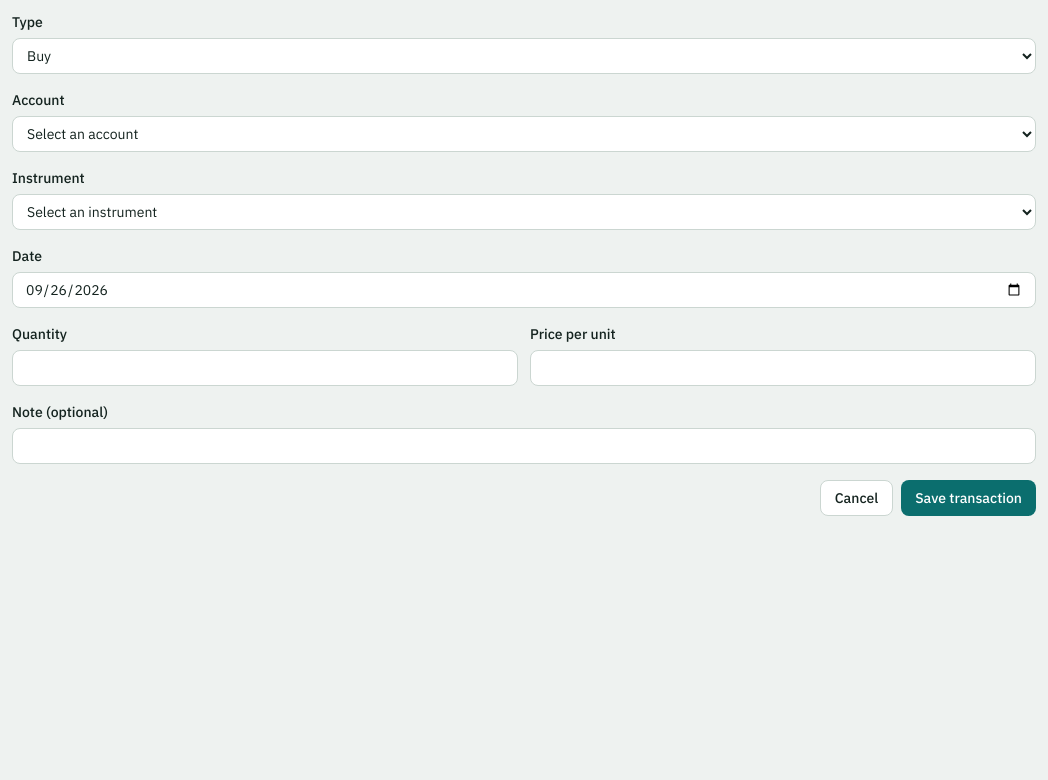
Test case: TransactionForm › rejects a negative quantity
Select "Main" in the dropdown labelled "Account": (524, 134) [12, 116, 1036, 152]
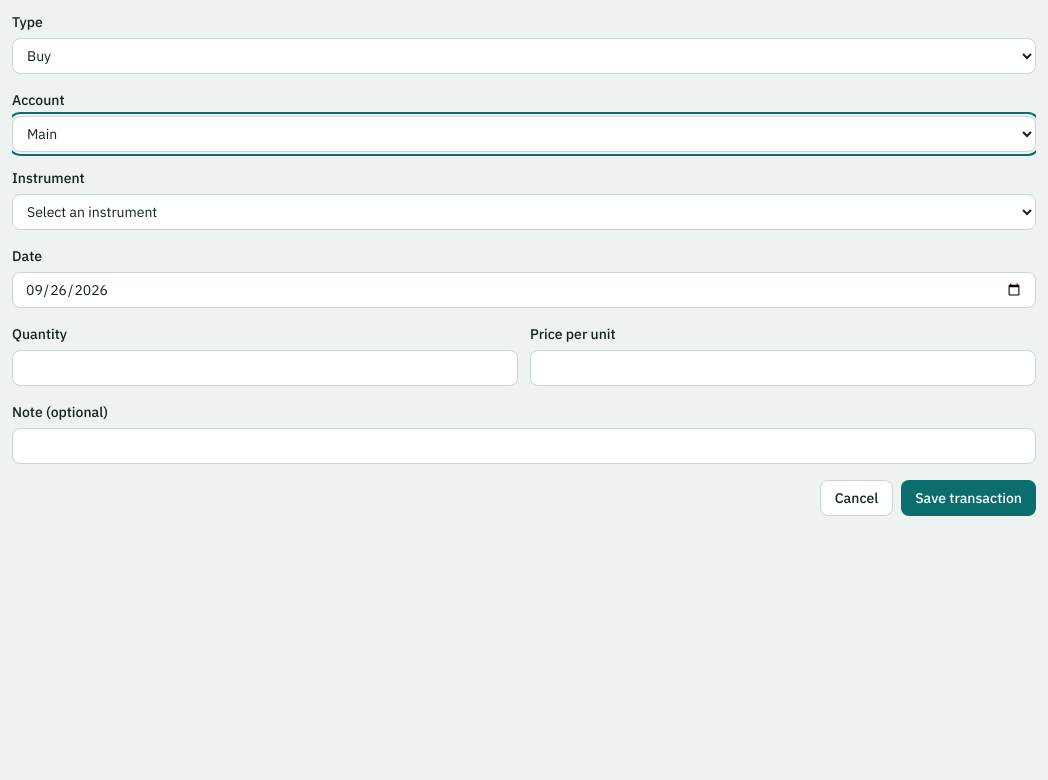
Select "VTI" in the dropdown labelled "Instrument": (524, 212) [12, 194, 1036, 230]
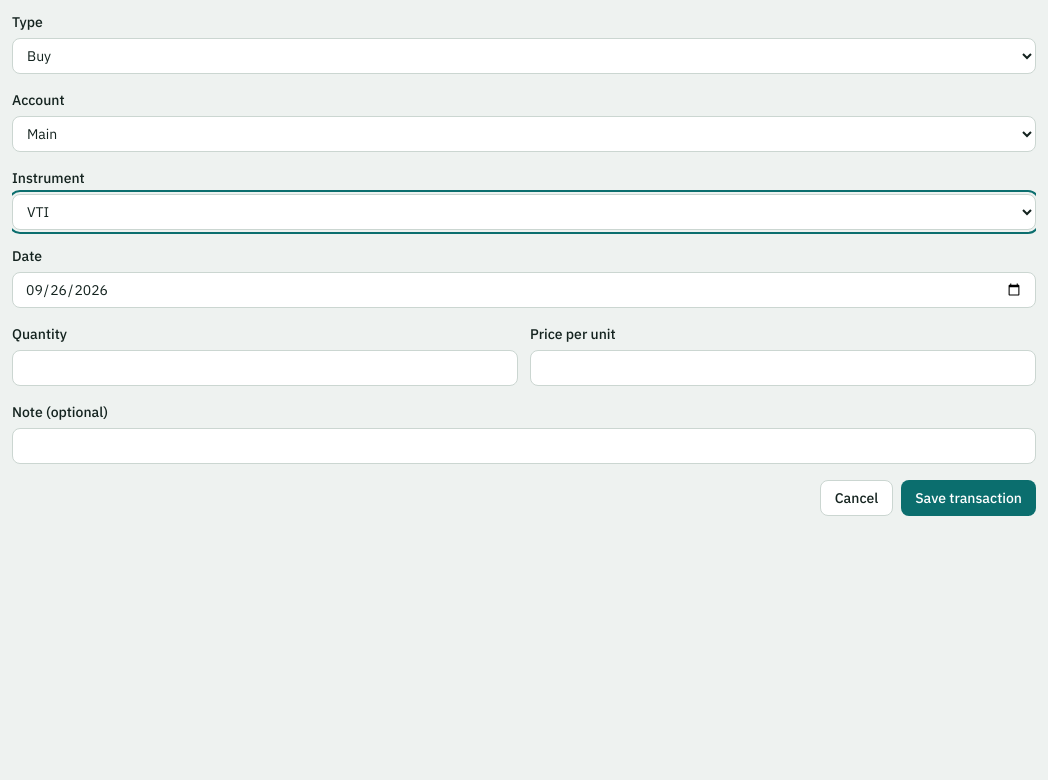
In the date field labelled "Date": (524, 290) [12, 272, 1036, 308], type "2026-03-05"
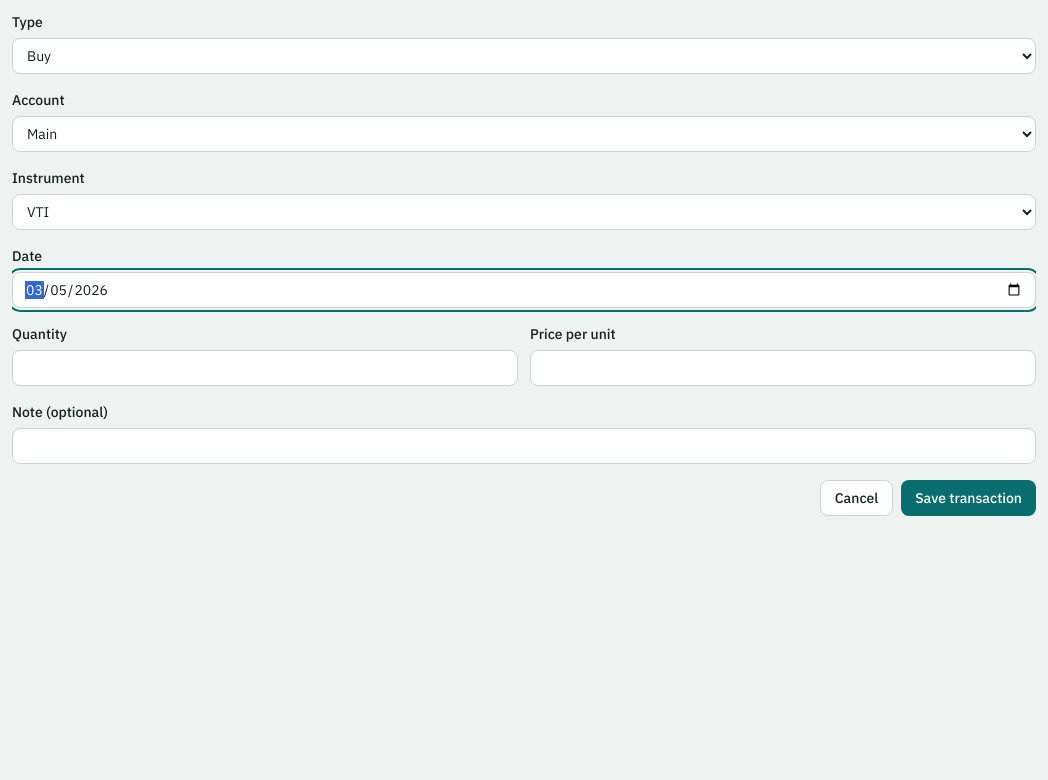
In the field labelled "Quantity": (265, 368) [12, 350, 518, 386], type "-3"
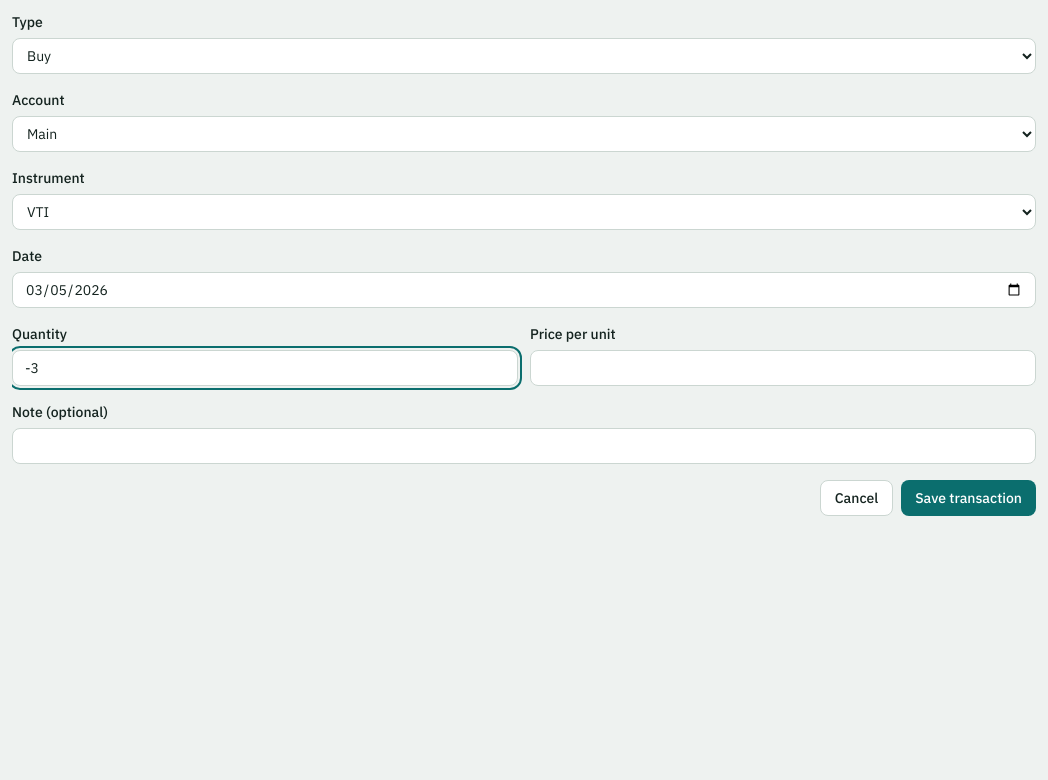
In the field labelled "Price per unit": (783, 368) [530, 350, 1036, 386], type "100"
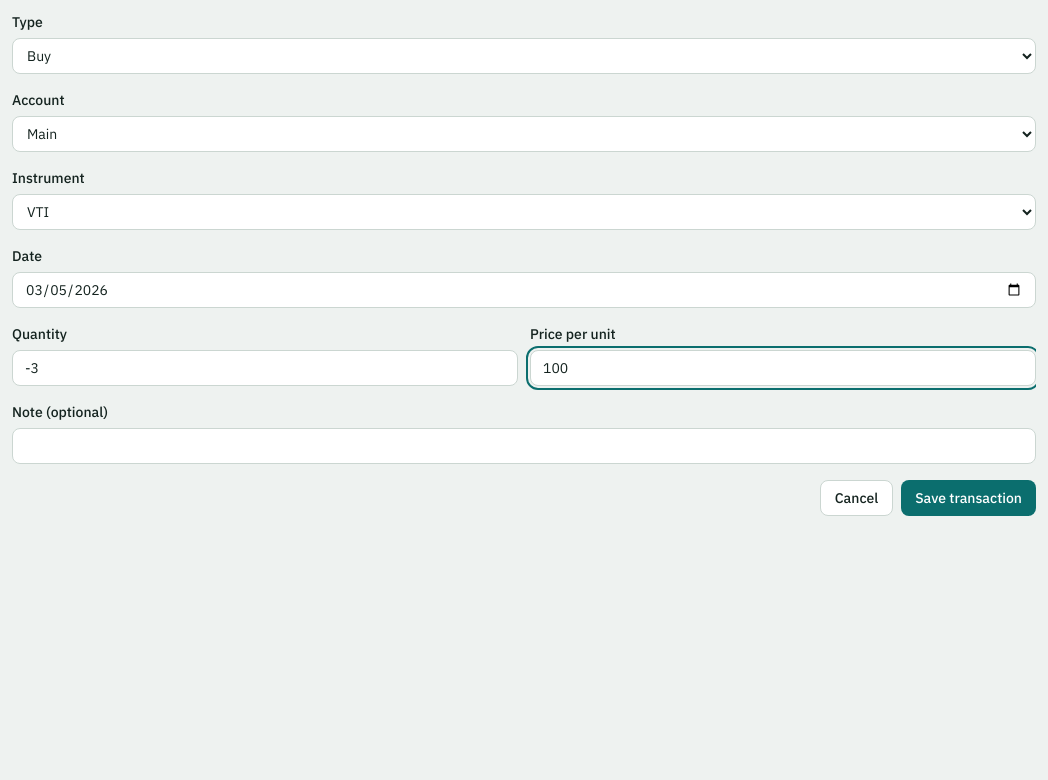
Click the button "Save transaction": (969, 498) [901, 480, 1036, 516]
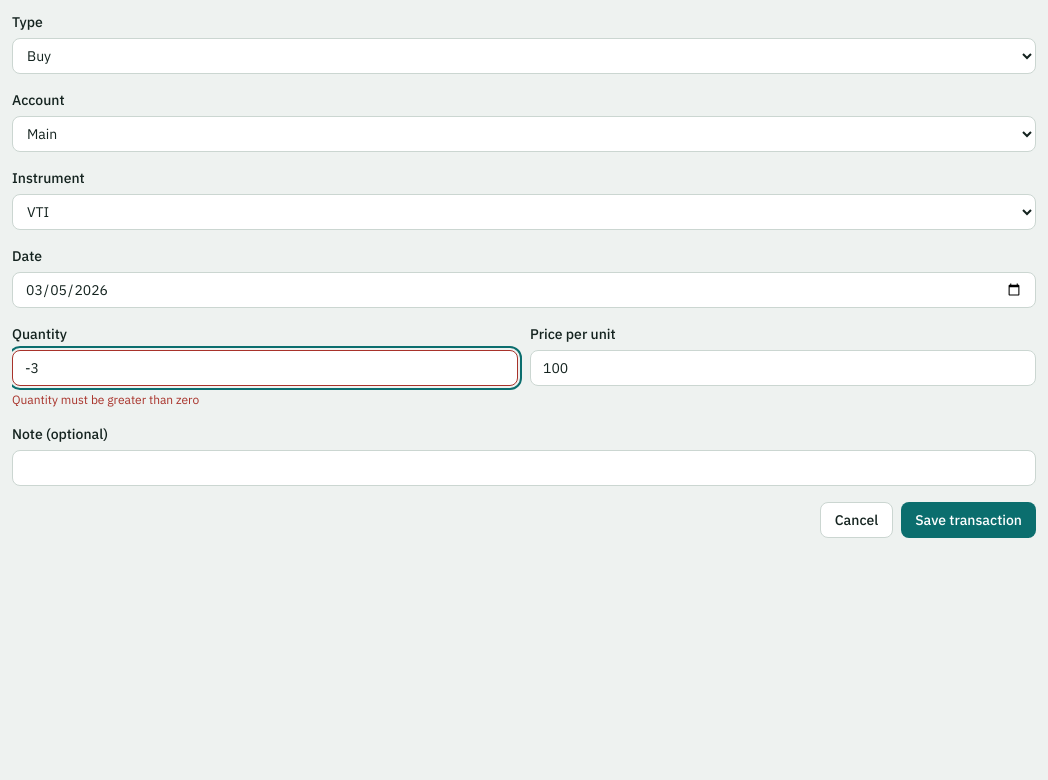
Expected: the text "Quantity must be greater than zero" is shown, [12, 392, 199, 407]
